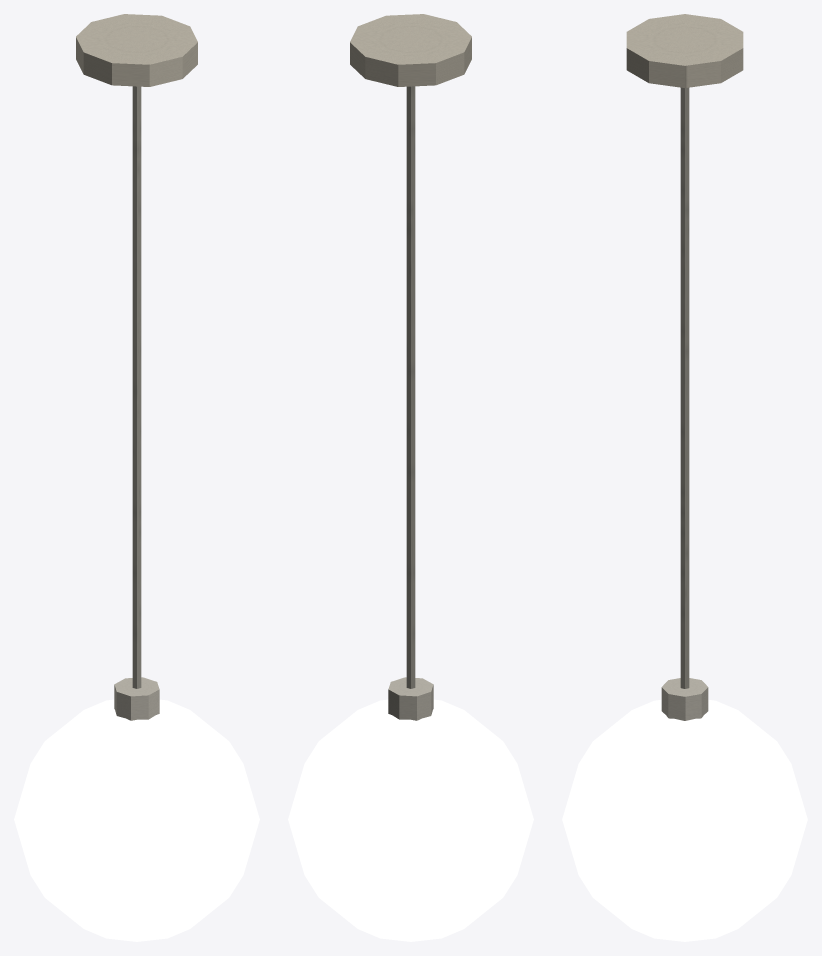
The model's file is ball_light.glb.
3 renders of one model, left to right at view 1: azimuth 30°, elevation 25°; view 2: azimuth 150°, elevation 25°; view 3: azimuth 270°, elevation 25°, orthographic.
Visible parts, largest first — view 1: home_ball_light; view 2: home_ball_light; view 3: home_ball_light.
Boxes of the visible parts, box(x1,y1,x2,y2) form: home_ball_light: box(14, 14, 259, 941); home_ball_light: box(288, 14, 533, 941); home_ball_light: box(562, 14, 807, 941).
Bounding box in the file's own units: 0.2 × 0.799 × 0.2.
Materials: 2 (2 with a texture image).
